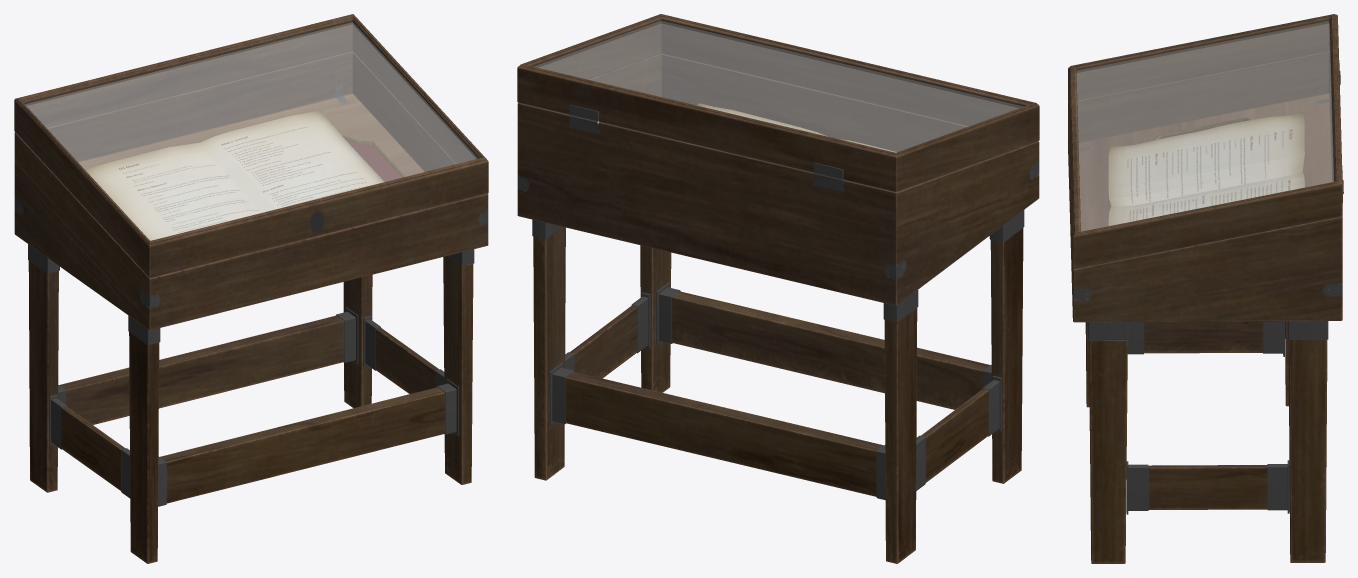
The model's file is Tu_GoNau.glb.
The picture shows the model from 3 angles, left to right: view 1: azimuth 30°, elevation 25°; view 2: azimuth 150°, elevation 25°; view 3: azimuth 270°, elevation 25°; orthographic projection. The views are drawn at different scales.
Parts seen in each view (by area): view 1: Object_4, Object_6, charter.001_2; view 2: Object_4, Object_6; view 3: Object_4, Object_6, charter.001_2.
Part boxes in pixels (x1,y1,x2,y2): Object_4: [14, 14, 488, 563]; Object_6: [25, 22, 477, 240]; charter.001_2: [86, 110, 383, 240]; Object_4: [517, 14, 1039, 563]; Object_6: [534, 21, 1022, 152]; Object_4: [1068, 14, 1343, 563]; Object_6: [1077, 21, 1333, 231]; charter.001_2: [1108, 112, 1304, 225].
Size of the model in its own units: 1.07 by 1.12 by 0.7281.
3 materials, 2 textured.
